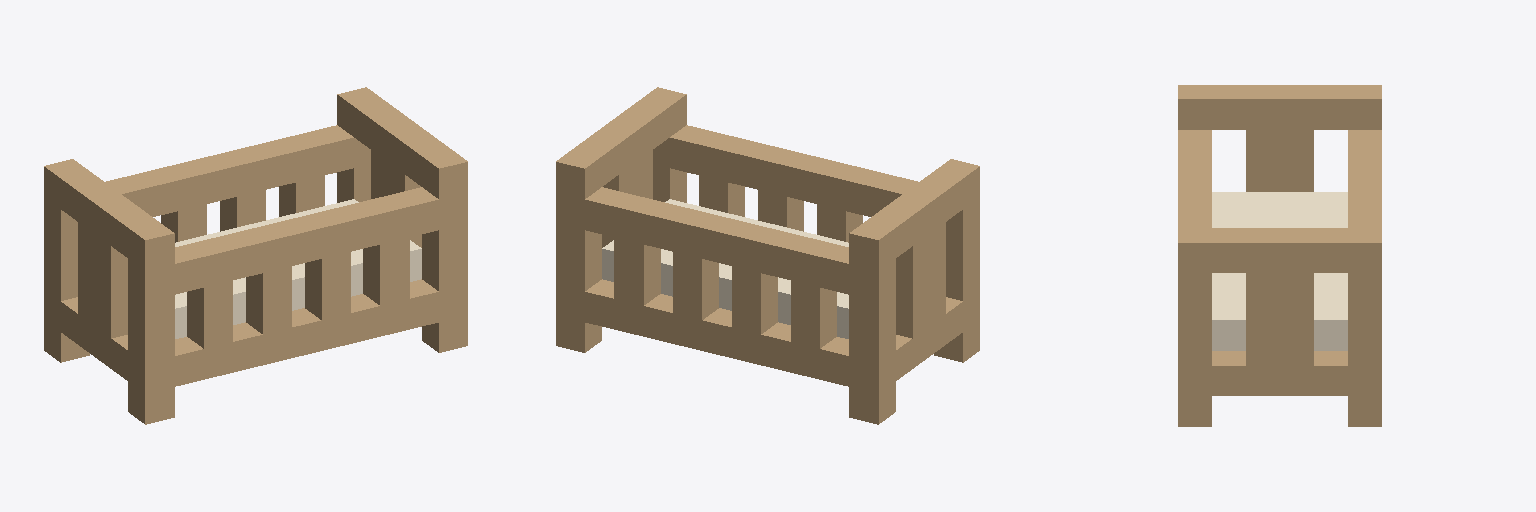
The picture shows the model from 3 angles: view 1: azimuth 30°, elevation 25°; view 2: azimuth 150°, elevation 25°; view 3: azimuth 270°, elevation 25°; orthographic projection.
Parts seen in each view (by area): view 1: crib; view 2: crib; view 3: crib.
Boxes of the visible parts, <box> form: crib: <box>44,87,467,424</box>; crib: <box>556,87,979,424</box>; crib: <box>1178,85,1381,426</box>.
Size of the model in its own units: 11 by 6 by 6.
1 materials, 1 textured.